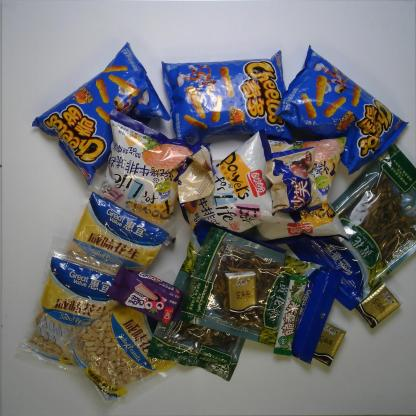Chocolate: (269, 270, 313, 364)
Dessert: (110, 263, 192, 324), (263, 137, 321, 218), (176, 138, 222, 206)
Dried Food: (162, 215, 336, 367), (148, 211, 286, 383), (283, 138, 416, 310)
Dried Fruit: (22, 244, 124, 378), (62, 302, 184, 404), (58, 192, 168, 286)
Puffed Food: (30, 39, 172, 183), (272, 44, 410, 177), (157, 50, 300, 146), (88, 107, 192, 233), (165, 132, 275, 247), (258, 129, 350, 243)
Tissue: (215, 263, 266, 324), (304, 317, 352, 373), (355, 277, 402, 331)
